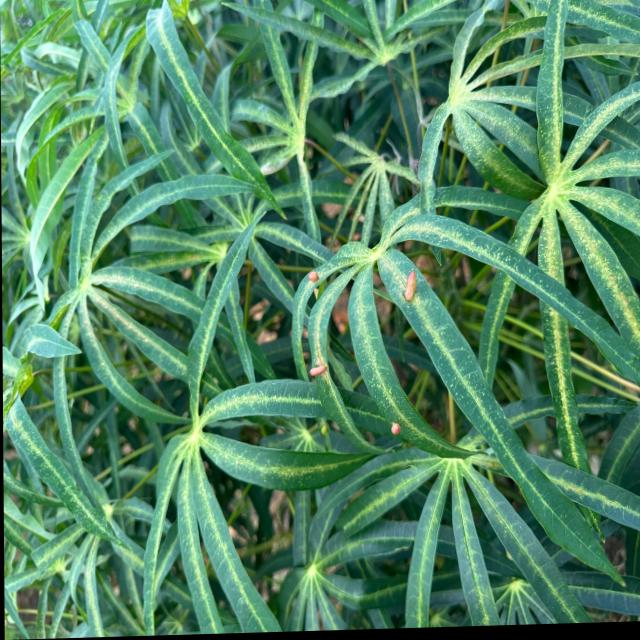Mosca: (245, 292, 284, 332), (73, 421, 104, 461), (346, 201, 376, 242), (376, 403, 405, 443), (299, 347, 329, 382), (398, 262, 419, 307), (298, 249, 324, 284), (332, 168, 360, 194), (98, 578, 131, 598), (324, 305, 344, 336), (115, 439, 138, 461)
